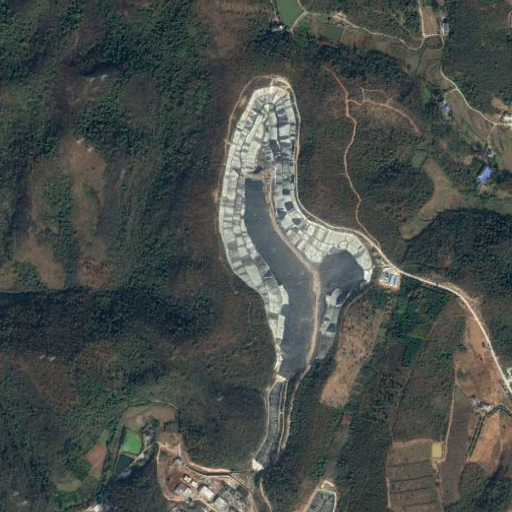lf: (219, 82, 374, 377)
